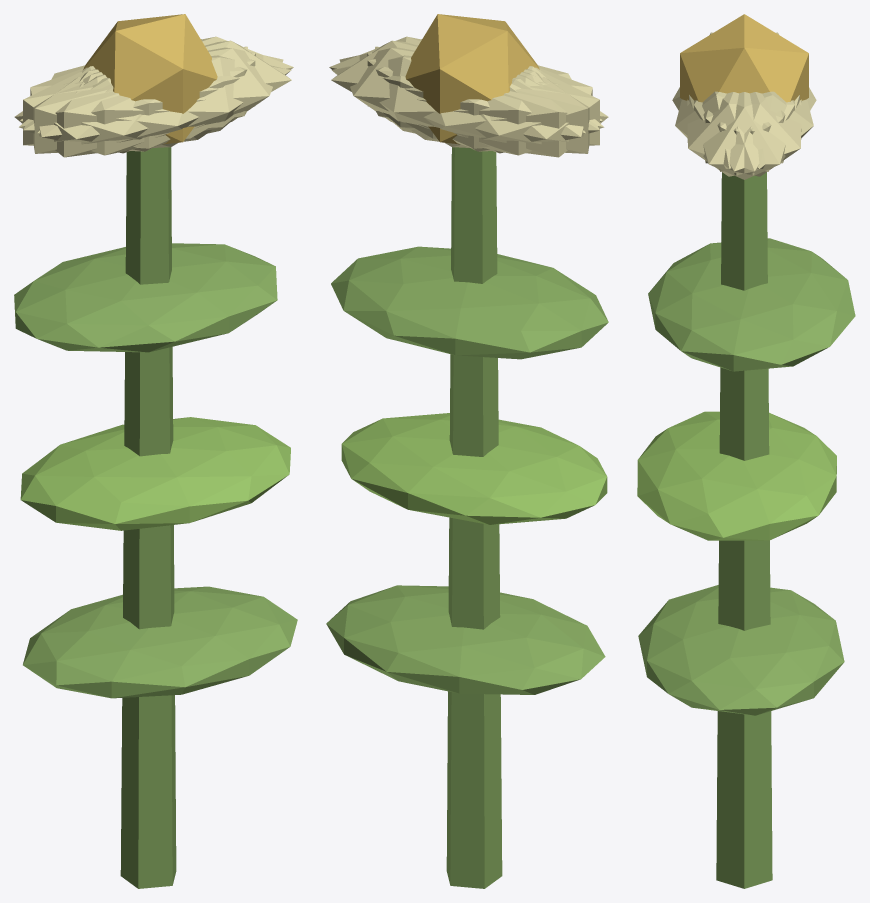
File: ipomoea-aquatica.glb
The picture shows the model from 3 angles, left to right: view 1: azimuth 30°, elevation 25°; view 2: azimuth 150°, elevation 25°; view 3: azimuth 270°, elevation 25°; orthographic projection.
Parts seen in each view (by area): view 1: stem, leaf1, leaf0, leaf2, center, petal1, petal6, petal2, petal5, petal7, petal0, petal4 (+2 smaller); view 2: stem, leaf2, leaf0, leaf1, center, petal8, petal3, petal7, petal4, petal2, petal0, petal5 (+2 smaller); view 3: stem, leaf2, leaf0, leaf1, center, petal0, petal5, petal4, petal1, petal8.
Boxes of the visible parts, x1,y1,x2,y2 form: stem: [120, 147, 176, 888]; leaf1: [20, 417, 290, 530]; leaf0: [23, 586, 297, 698]; leaf2: [14, 243, 277, 352]; center: [83, 14, 217, 144]; petal1: [19, 55, 291, 155]; petal6: [14, 67, 211, 157]; petal2: [33, 46, 247, 153]; petal5: [37, 47, 283, 148]; petal7: [23, 52, 255, 151]; petal0: [83, 40, 291, 138]; petal4: [20, 36, 293, 130]; stem: [446, 147, 502, 888]; leaf2: [331, 246, 608, 359]; leaf0: [326, 585, 605, 694]; leaf1: [341, 413, 607, 524]; center: [405, 14, 539, 144]; petal8: [332, 55, 604, 155]; petal3: [411, 67, 608, 157]; petal7: [375, 46, 589, 153]; petal4: [339, 47, 585, 148]; petal2: [367, 52, 599, 151]; petal0: [331, 40, 539, 138]; petal5: [329, 36, 602, 130]; stem: [716, 172, 772, 888]; leaf2: [648, 238, 855, 371]; leaf0: [638, 585, 844, 715]; leaf1: [637, 411, 836, 540]; center: [680, 14, 808, 102]; petal0: [689, 92, 799, 179]; petal5: [687, 92, 794, 176]; petal4: [694, 92, 801, 176]; petal1: [675, 91, 785, 168]; petal8: [703, 91, 813, 168].
Size of the model in its own units: 0.1452 by 0.4422 by 0.1034.
